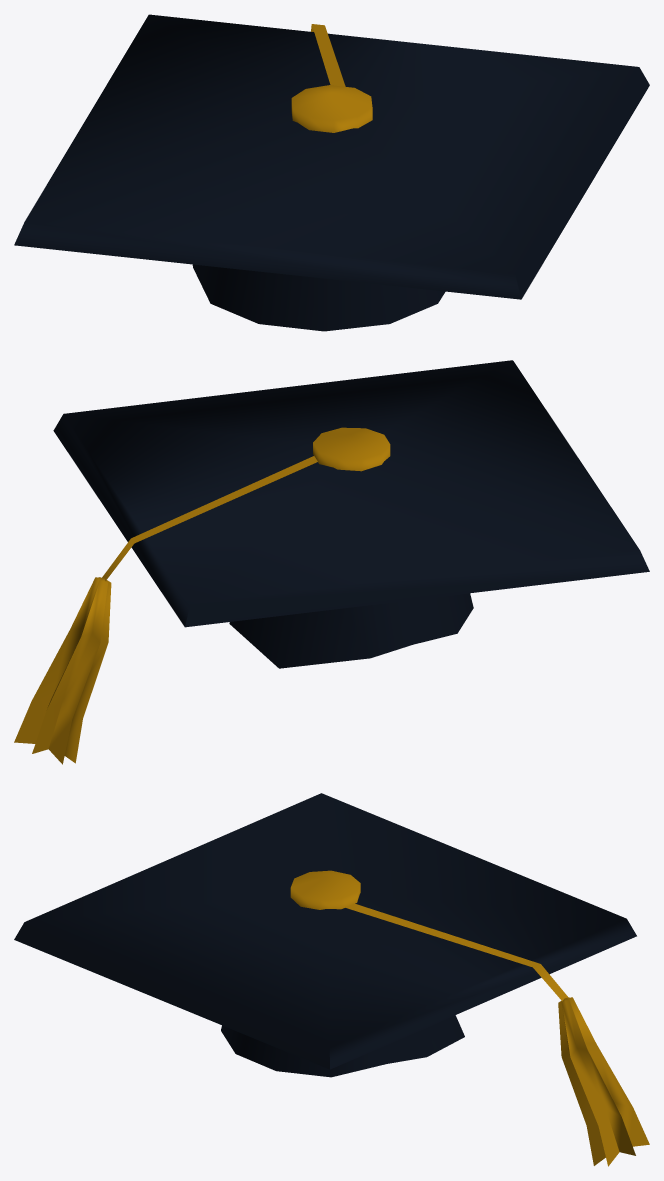
The model's file is hat_academic.glb.
3 views of the same model, one above another, from view 1: azimuth 30°, elevation 25°; view 2: azimuth 150°, elevation 25°; view 3: azimuth 270°, elevation 25° (orthographic). The views are drawn at different scales.
Parts seen in each view (by area): view 1: hat_academic; view 2: hat_academic; view 3: hat_academic.
Part boxes in pixels (bbox=[...]): hat_academic: bbox=[14, 14, 649, 331]; hat_academic: bbox=[14, 360, 649, 764]; hat_academic: bbox=[14, 793, 649, 1166].
Size of the model in its own units: 0.446 by 0.1769 by 0.4551.
